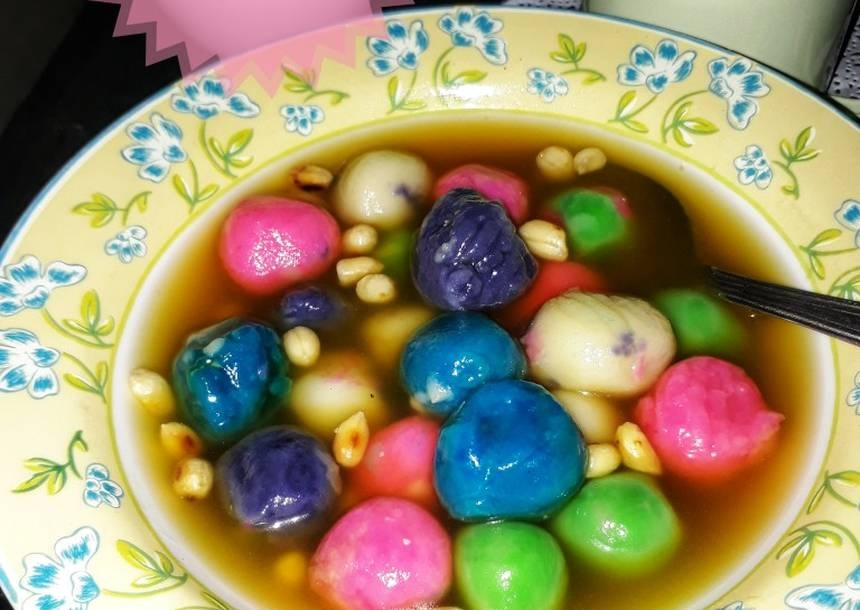ronde: (143, 118, 811, 610)
